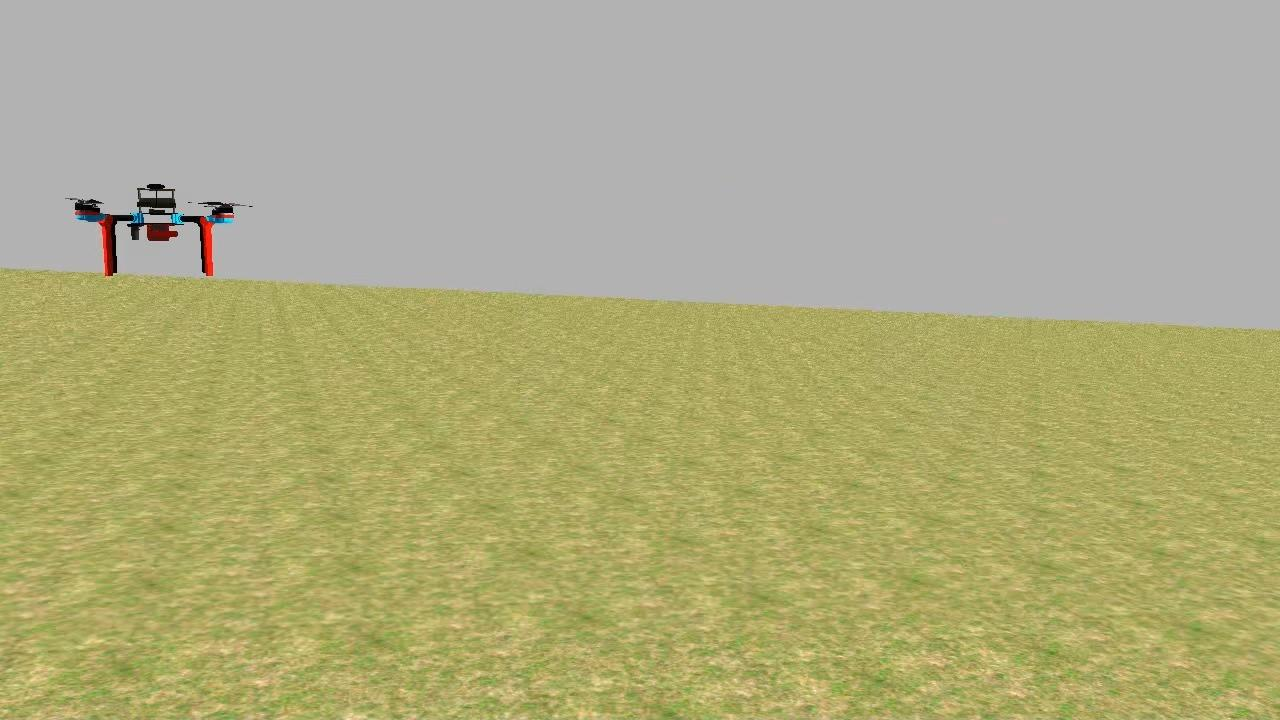UAV: (61, 174, 250, 287)
